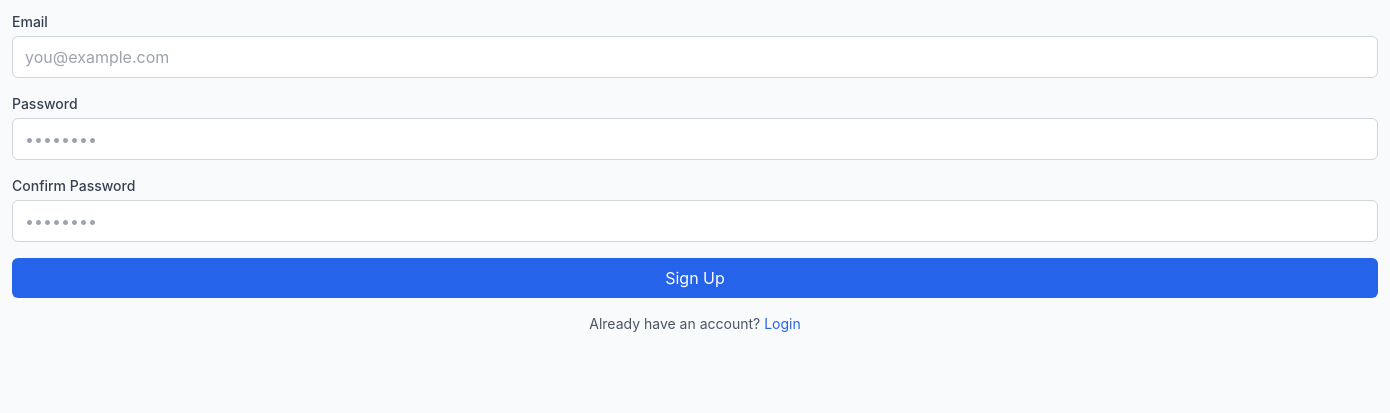
Test: AuthForm Component › Form Validation › shows error if password is less than 8 characters
Type "test@example.com" into the field labelled "Email" at (695, 57), box [12,36,1378,78]
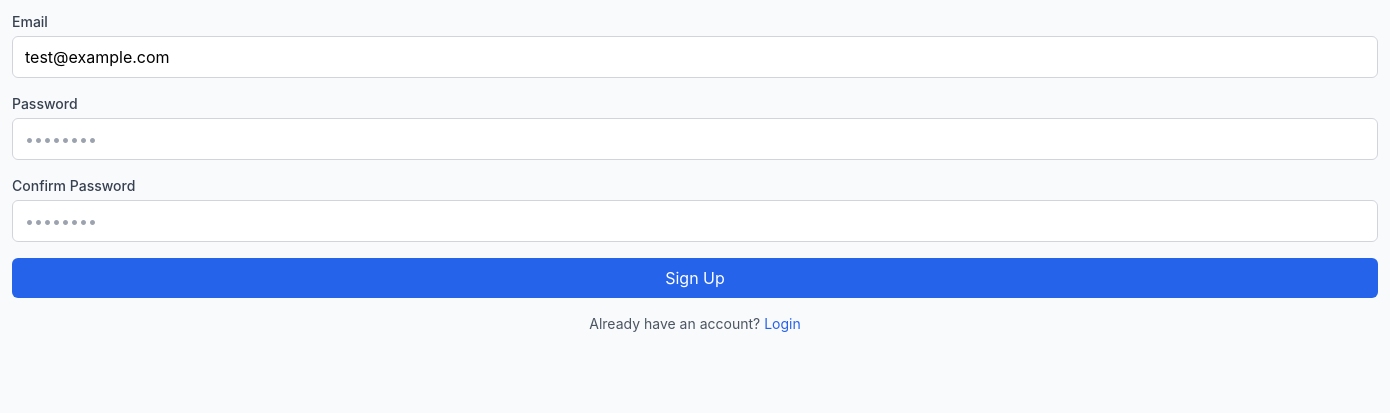
Type "short" into the password field labelled "Password" at (695, 139), box [12,118,1378,160]
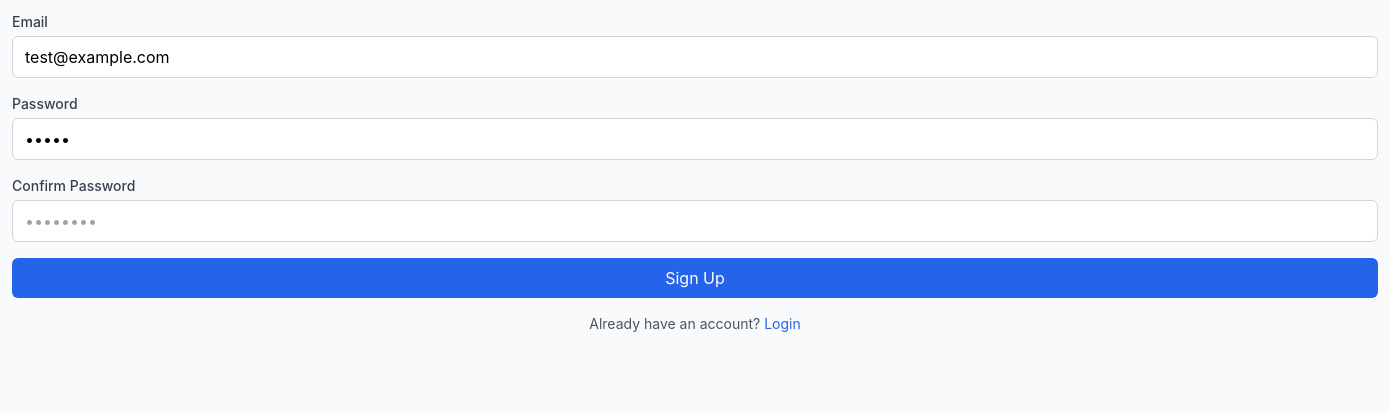
Type "short" into the password field labelled "Confirm Password" at (695, 221), box [12,200,1378,242]
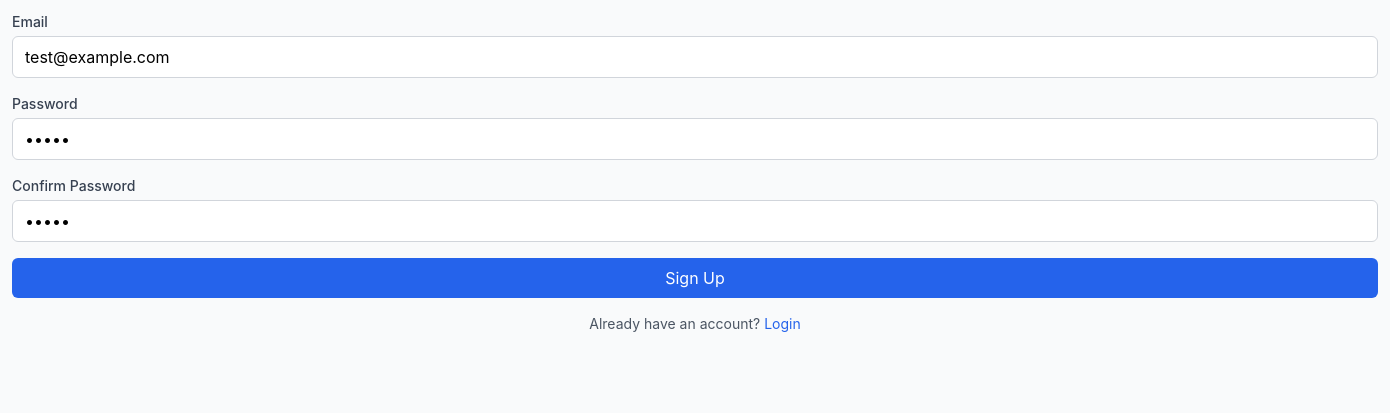
Click the button "Sign Up" at (695, 278), box [12,258,1378,298]
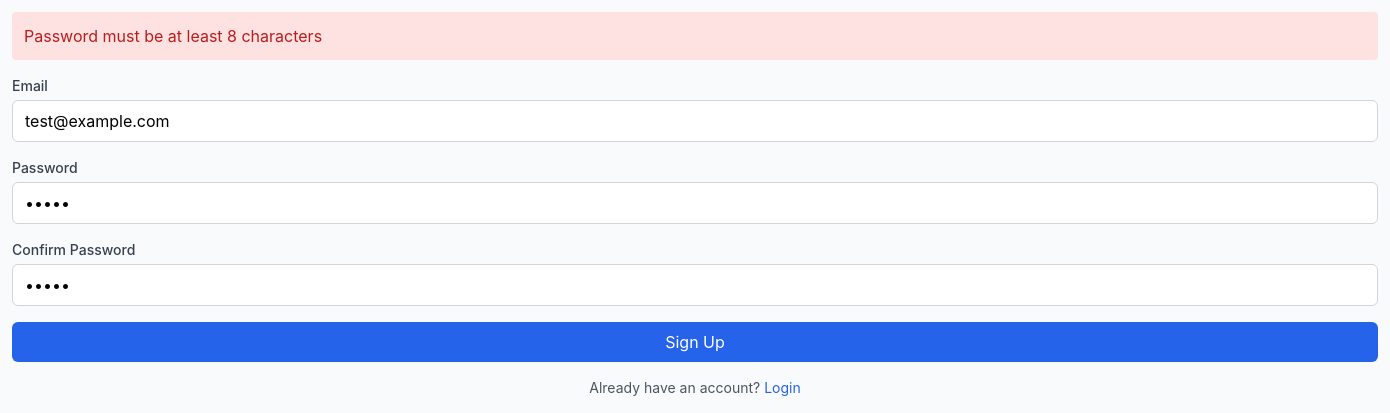
Expected: the text "Password must be at least 8 characters" is shown, [12,12,1378,60]
